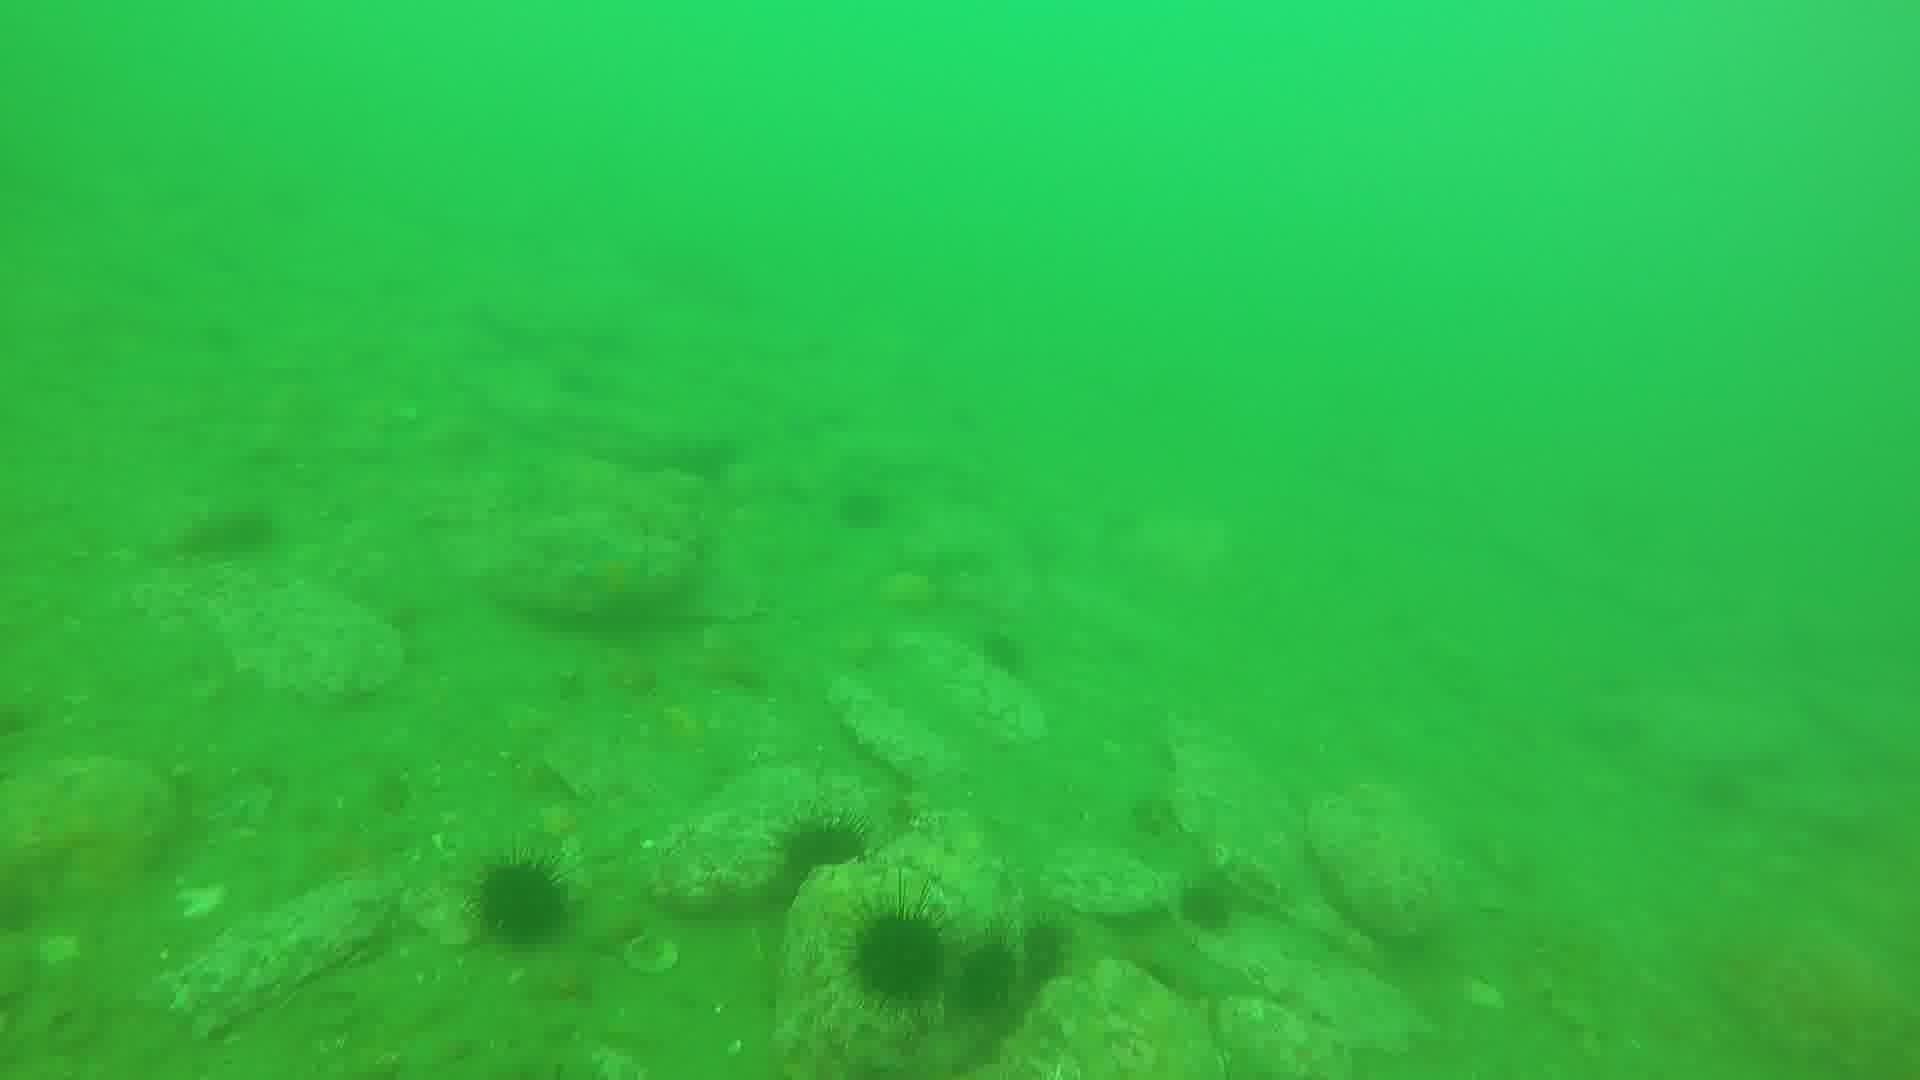echinus: (851, 897, 949, 1006), (479, 855, 571, 947), (775, 814, 868, 891), (1007, 916, 1081, 984), (965, 939, 1019, 1021), (1182, 874, 1241, 940), (837, 485, 887, 543)
